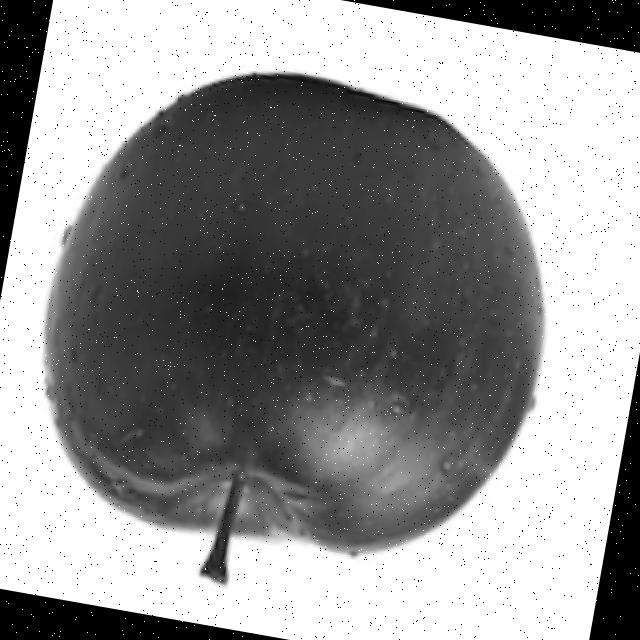Ripe: (0, 33, 588, 639)
